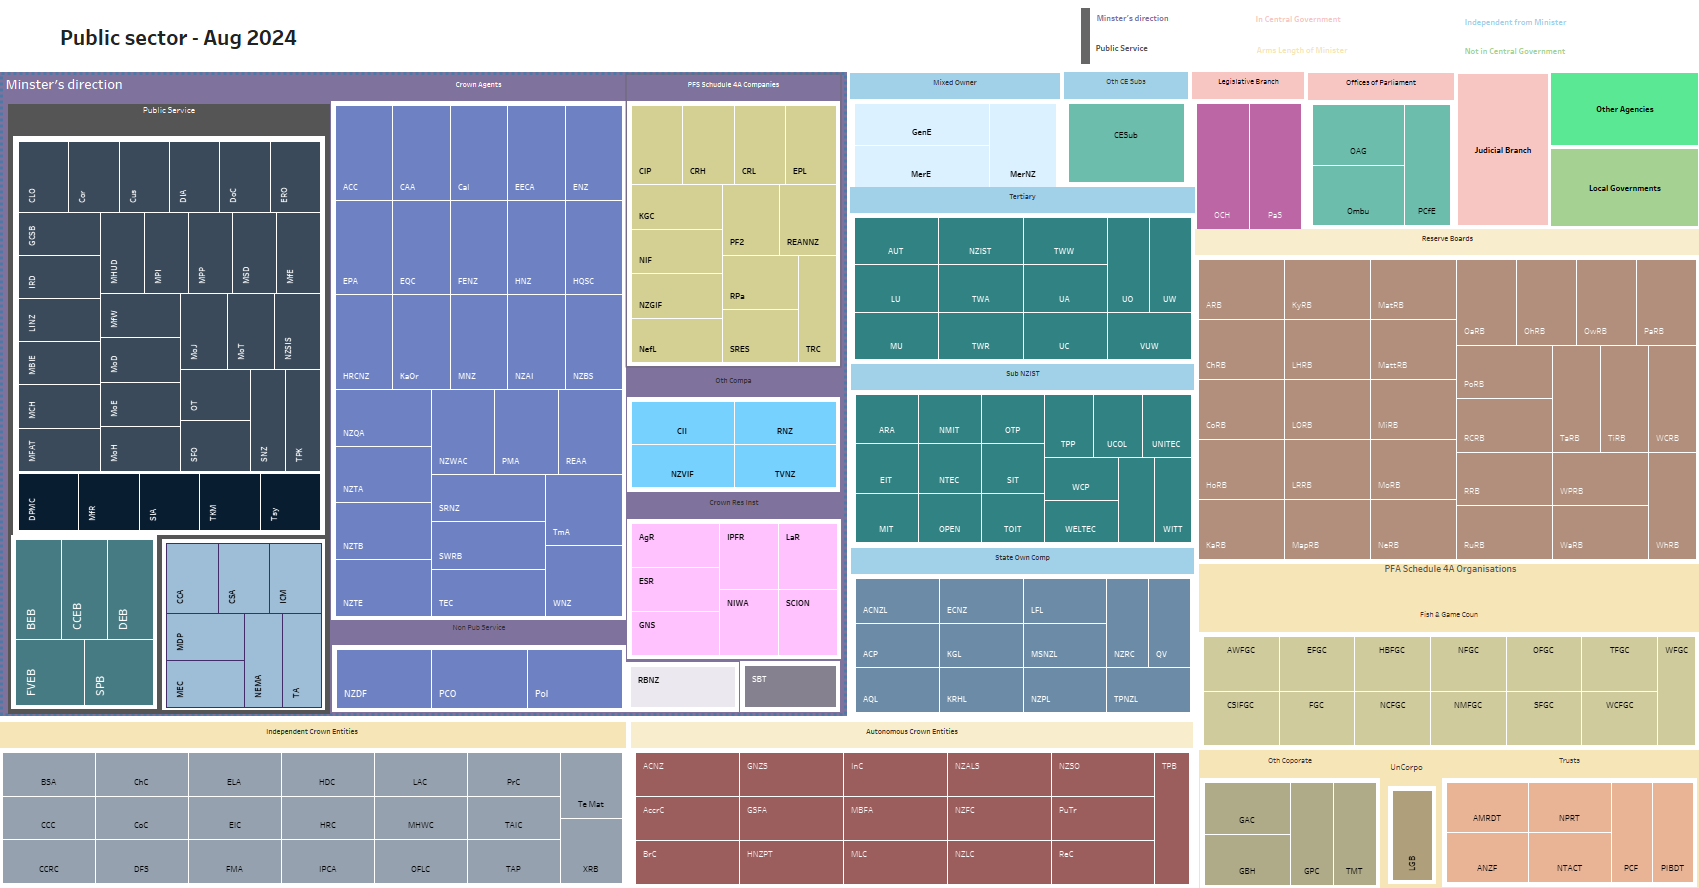

The page's visual inventory and layout, read from the dashboard file:
{"tool":"tableau","page":{"name":"Dashboard Public Sector","canvas":[1000,1000],"units":"permille","ordinal":0},"visuals":[{"type":"text","box":[641.3,3.9,92.2,39.1]},{"type":"text","box":[734.3,5.2,114.2,39.1]},{"type":"text","box":[856.5,11.7,114.2,33.9]},{"type":"text","box":[634,13,5.1,62.5]},{"type":"text","box":[8.1,14.3,623.7,62.5]},{"type":"text","box":[735,40.4,114.2,39.1]},{"type":"text","box":[640.6,41.7,95.2,32.5]},{"type":"text","box":[856.5,43,114.2,35.2]},{"type":"text","box":[1.5,84.6,495.6,718.8]},{"type":"worksheet","title":"Oth CE Subs","mark":"Automatic","box":[623.7,84.6,72.5,127.6]},{"type":"worksheet","title":"Legl Branch","mark":"Automatic","box":[698.4,84.6,65.9,179.7]},{"type":"worksheet","title":"Mixed Owner","mark":"Automatic","box":[498.5,85.9,123,132.8]},{"type":"worksheet","title":"Offices of Parliament","mark":"Automatic","box":[766.5,85.9,85.7,174.5]},{"type":"text","box":[908.5,85.9,86.4,80.7]},{"type":"text","box":[854.3,87.2,52.7,168]},{"type":"worksheet","title":"Crown Agents","mark":"Automatic","box":[194.7,88.5,172.8,608.1]},{"type":"worksheet","title":"Schedule 4A comp","mark":"Automatic","box":[368.2,88.5,124.5,324.2]},{"type":"text","box":[5.9,121.1,188.1,681]},{"type":"worksheet","title":"Depts","mark":"Automatic","box":[8.8,156.2,182.3,445.3]},{"type":"text","box":[908.5,170.6,86.4,85.9]},{"type":"worksheet","title":"Tertiary","mark":"Automatic","box":[498.5,213.5,202.1,197.9]},{"type":"worksheet","title":"Reserve Boards","mark":"Automatic","box":[699.9,260.4,296.5,373.7]},{"type":"worksheet","title":"Sub NZIST","mark":"Automatic","box":[499.3,410.2,201.3,204.4]},{"type":"worksheet","title":"Oth Compa","mark":"Automatic","box":[368.2,418,124.5,135.4]},{"type":"worksheet","title":"Crown Res Inst","mark":"Automatic","box":[368.2,554.7,125.2,184.9]},{"type":"worksheet","title":"Inter Dep Ex BRD","mark":"Automatic","box":[7.3,601.6,85.7,194]},{"type":"worksheet","title":"Dept Agency","mark":"Automatic","box":[95.9,605.5,95.2,191.4]},{"type":"worksheet","title":"State Own Comp","mark":"Automatic","box":[499.3,615.9,200.6,188.8]},{"type":"text","box":[702.8,631.5,294.3,364.6]},{"type":"worksheet","title":"Fish & Game Coun","mark":"Automatic","box":[702.8,679.7,292.8,161.5]},{"type":"worksheet","title":"Non Pub Service","mark":"Automatic","box":[195.5,694,172,105.5]},{"type":"worksheet","title":"School BT","mark":"Automatic","box":[434.1,742.2,58.6,57.3]},{"type":"worksheet","title":"RBNZ","mark":"Automatic","box":[367.5,743.5,65.9,56]},{"type":"worksheet","title":"Inde Enti","mark":"Automatic","box":[0,809.9,367.5,184.9]},{"type":"worksheet","title":"Auto Enti","mark":"Automatic","box":[370.4,809.9,328.7,186.2]},{"type":"worksheet","title":"Oth Coporate","mark":"Automatic","box":[703.5,842.5,105.4,153.7]},{"type":"worksheet","title":"Trusts","mark":"Automatic","box":[844.8,842.5,149.3,152.3]},{"type":"text","box":[800.9,847.7,46.1,24.7]},{"type":"worksheet","title":"Oth Uncoporate","mark":"Automatic","box":[813.3,864.6,27.8,126.3]}]}

Visuals, with their boxes on the dashboard's canvas, which has no fixed pixel size, in thousandths of its width and height (x1, y1, x2, y2). These are canvas units, not pixel positions in the 1699x888 screenshot, which may show the page scaled, cropped or inside an application window:
text: [left=641, top=4, right=734, bottom=43]
text: [left=734, top=5, right=848, bottom=44]
text: [left=856, top=12, right=971, bottom=46]
text: [left=634, top=13, right=639, bottom=76]
text: [left=8, top=14, right=632, bottom=77]
text: [left=735, top=40, right=849, bottom=80]
text: [left=641, top=42, right=736, bottom=74]
text: [left=856, top=43, right=971, bottom=78]
text: [left=2, top=85, right=497, bottom=803]
"Oth CE Subs" worksheet: [left=624, top=85, right=696, bottom=212]
"Legl Branch" worksheet: [left=698, top=85, right=764, bottom=264]
"Mixed Owner" worksheet: [left=498, top=86, right=622, bottom=219]
"Offices of Parliament" worksheet: [left=766, top=86, right=852, bottom=260]
text: [left=908, top=86, right=995, bottom=167]
text: [left=854, top=87, right=907, bottom=255]
"Crown Agents" worksheet: [left=195, top=88, right=368, bottom=697]
"Schedule 4A comp" worksheet: [left=368, top=88, right=493, bottom=413]
text: [left=6, top=121, right=194, bottom=802]
"Depts" worksheet: [left=9, top=156, right=191, bottom=602]
text: [left=908, top=171, right=995, bottom=256]
"Tertiary" worksheet: [left=498, top=214, right=701, bottom=411]
"Reserve Boards" worksheet: [left=700, top=260, right=996, bottom=634]
"Sub NZIST" worksheet: [left=499, top=410, right=701, bottom=615]
"Oth Compa" worksheet: [left=368, top=418, right=493, bottom=553]
"Crown Res Inst" worksheet: [left=368, top=555, right=493, bottom=740]
"Inter Dep Ex BRD" worksheet: [left=7, top=602, right=93, bottom=796]
"Dept Agency" worksheet: [left=96, top=606, right=191, bottom=797]
"State Own Comp" worksheet: [left=499, top=616, right=700, bottom=805]
text: [left=703, top=632, right=997, bottom=996]
"Fish & Game Coun" worksheet: [left=703, top=680, right=996, bottom=841]
"Non Pub Service" worksheet: [left=196, top=694, right=368, bottom=800]
"School BT" worksheet: [left=434, top=742, right=493, bottom=800]
"RBNZ" worksheet: [left=368, top=744, right=433, bottom=800]
"Inde Enti" worksheet: [left=0, top=810, right=368, bottom=995]
"Auto Enti" worksheet: [left=370, top=810, right=699, bottom=996]
"Oth Coporate" worksheet: [left=704, top=842, right=809, bottom=996]
"Trusts" worksheet: [left=845, top=842, right=994, bottom=995]
text: [left=801, top=848, right=847, bottom=872]
"Oth Uncoporate" worksheet: [left=813, top=865, right=841, bottom=991]
